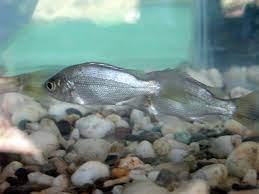Silver Perch: (147, 68, 259, 133), (42, 59, 184, 107)
